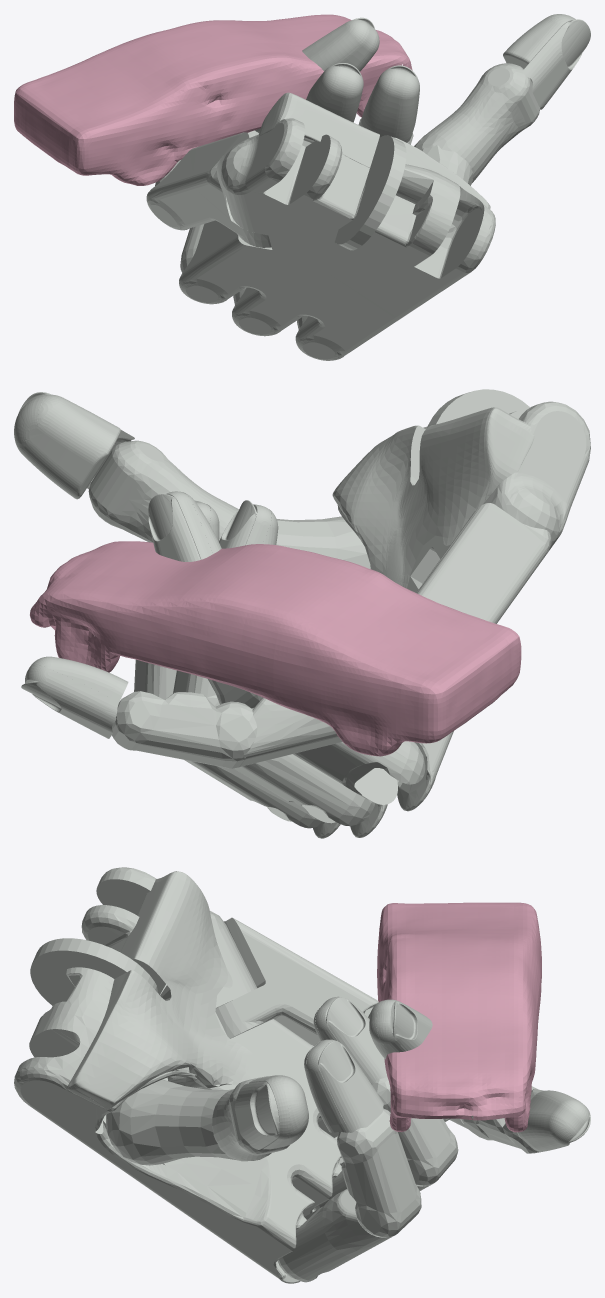
3 views of the same model, one above another, from view 1: azimuth 30°, elevation 25°; view 2: azimuth 150°, elevation 25°; view 3: azimuth 270°, elevation 25° (orthographic). The views are drawn at different scales.
Parts seen in each view (by area): view 1: hand, world; view 2: hand, world; view 3: hand, world.
Part boxes in pixels (x1,y1,x2,y2): hand: (146,14,590,360); world: (14,14,412,185); hand: (14,389,590,838); world: (30,541,521,756); hand: (14,867,590,1283); world: (377,902,541,1132).
Size of the model in its own units: 0.1731 by 0.1176 by 0.1696.
